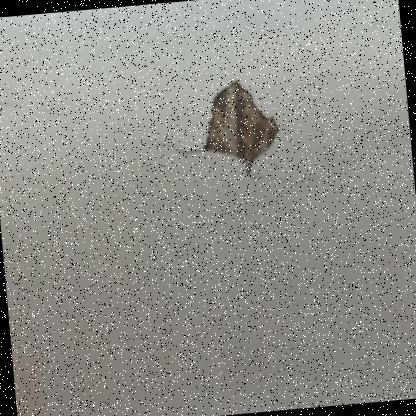Crack: (132, 41, 332, 239)
